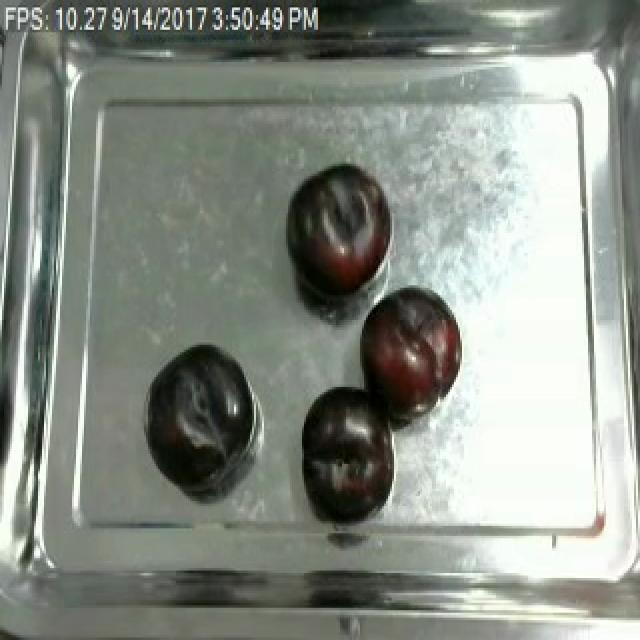Fruit: (142, 338, 258, 487), (282, 158, 394, 308), (354, 283, 466, 427), (300, 379, 398, 526)
